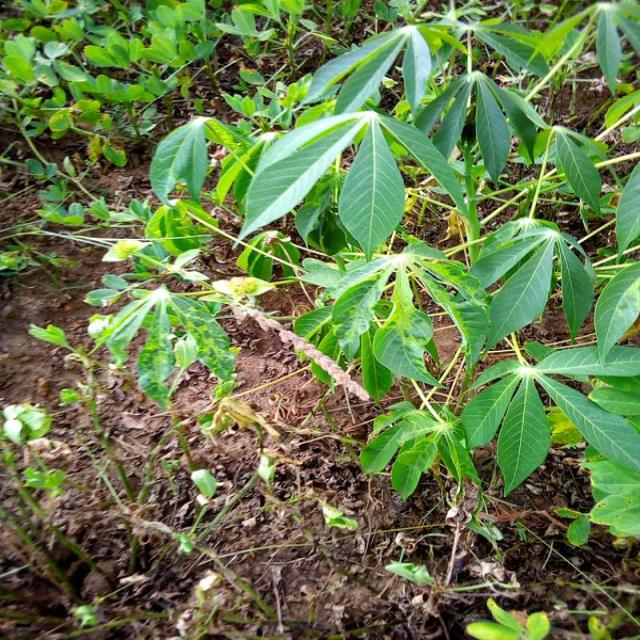cassava leaf: (336, 114, 406, 260)
